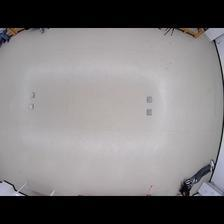fall: (175, 158, 215, 195)
